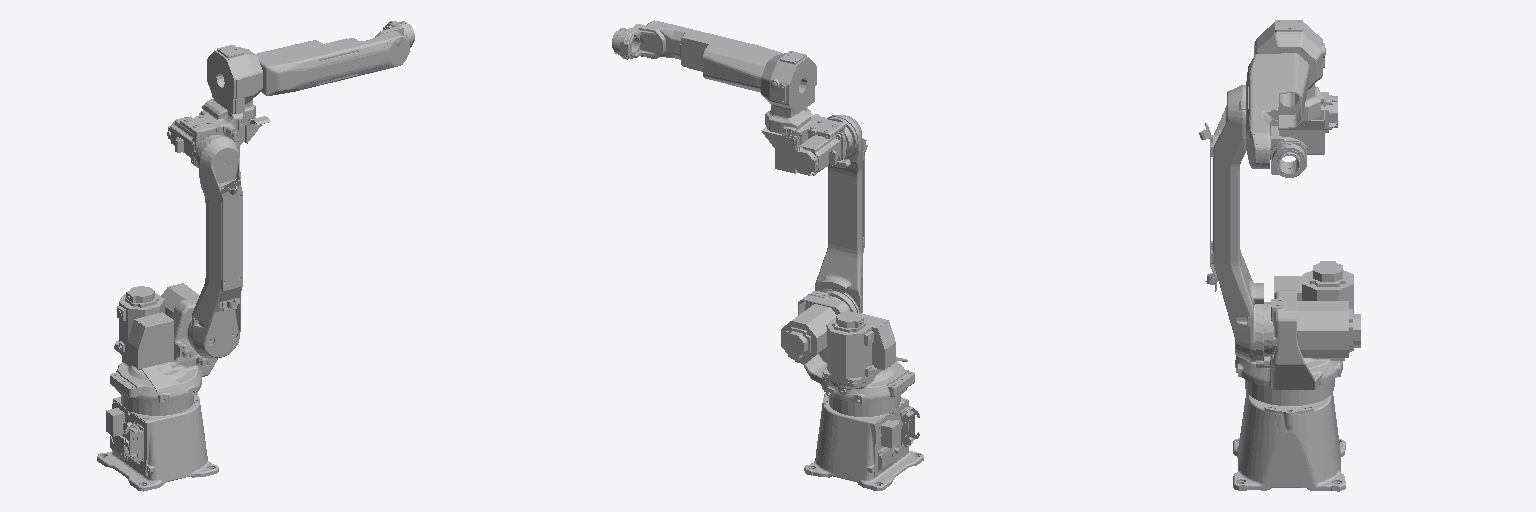
URDF robot description (m10iA):
<?xml version="1.0" ?>
<!-- =================================================================================== -->
<!-- |    This document was autogenerated by xacro from m10iA.xacro                    | -->
<!-- |    EDITING THIS FILE BY HAND IS NOT RECOMMENDED                                 | -->
<!-- =================================================================================== -->
<robot name="m10iA" xmlns:xacro="http://ros.org/wiki/xacro">
  <link name="base_link">
    <visual>
      <origin rpy="-1.578 0 0" xyz="0 0 0"/>
      <geometry>
        <mesh filename="package://fanuc_config/meshes/m_10iA/visual/base_link.STL"/>
      </geometry>
      <material name="grey">
        <color rgba="0.75 0.75 0.75 1"/>
      </material>
    </visual>
    <collision>
      <origin rpy="-1.578 0 0" xyz="0 0 0"/>
      <geometry>
        <mesh filename="package://fanuc_config/meshes/m_10iA/collision/base_link.stl"/>
      </geometry>
      <material name="yellow">
        <color rgba="1 1 0 1"/>
      </material>
    </collision>
  </link>
  <link name="link_1">
    <visual>
      <origin rpy="0 0 0" xyz="0 0 0"/>
      <geometry>
        <mesh filename="package://fanuc_config/meshes/m_10iA/visual/link_1.STL"/>
      </geometry>
      <material name="grey"/>
    </visual>
    <collision>
      <origin rpy="0 0 0" xyz="0 0 0"/>
      <geometry>
        <mesh filename="package://fanuc_config/meshes/m_10iA/collision/link_1.stl"/>
      </geometry>
      <material name="yellow"/>
    </collision>
  </link>
  <link name="link_2">
    <visual>
      <origin rpy="0 0 0" xyz="0 0 0"/>
      <geometry>
        <mesh filename="package://fanuc_config/meshes/m_10iA/visual/link_2.STL"/>
      </geometry>
      <material name="grey"/>
    </visual>
    <collision>
      <origin rpy="0 0 0" xyz="0 0 0"/>
      <geometry>
        <mesh filename="package://fanuc_config/meshes/m_10iA/collision/link_2.stl"/>
      </geometry>
      <material name="yellow"/>
    </collision>
  </link>
  <link name="link_3">
    <visual>
      <origin rpy="0 0 0" xyz="0 0 0"/>
      <geometry>
        <mesh filename="package://fanuc_config/meshes/m_10iA/visual/link_3.STL"/>
      </geometry>
      <material name="grey"/>
    </visual>
    <collision>
      <origin rpy="0 0 0" xyz="0 0 0"/>
      <geometry>
        <mesh filename="package://fanuc_config/meshes/m_10iA/collision/link_3.stl"/>
      </geometry>
      <material name="yellow"/>
    </collision>
  </link>
  <link name="link_4">
    <visual>
      <origin rpy="0 0 0" xyz="0 0 0"/>
      <geometry>
        <mesh filename="package://fanuc_config/meshes/m_10iA/visual/link_4.STL"/>
      </geometry>
      <material name="grey"/>
    </visual>
    <collision>
      <origin rpy="0 0 0" xyz="0 0 0"/>
      <geometry>
        <mesh filename="package://fanuc_config/meshes/m_10iA/collision/link_4.stl"/>
      </geometry>
      <material name="yellow"/>
    </collision>
  </link>
  <link name="link_5">
    <visual>
      <origin rpy="0 0 0" xyz="0 0 0"/>
      <geometry>
        <mesh filename="package://fanuc_config/meshes/m_10iA/visual/link_5.STL"/>
      </geometry>
      <material name="grey"/>
    </visual>
    <collision>
      <origin rpy="0 0 0" xyz="0 0 0"/>
      <geometry>
        <mesh filename="package://fanuc_config/meshes/m_10iA/collision/link_5.stl"/>
      </geometry>
      <material name="yellow"/>
    </collision>
  </link>
  <link name="link_6">
    <visual>
      <origin rpy="0 0 0" xyz="0 0 0"/>
      <geometry>
        <mesh filename="package://fanuc_config/meshes/m_10iA/visual/link_6.STL"/>
      </geometry>
      <material name="grey"/>
    </visual>
    <collision>
      <origin rpy="0 0 0" xyz="0 0 0"/>
      <geometry>
        <mesh filename="package://fanuc_config/meshes/m_10iA/collision/link_6.stl"/>
      </geometry>
      <material name="yellow"/>
    </collision>
  </link>
  <link name="tool0"/>
  <joint name="joint_1" type="revolute">
    <origin rpy="0 0 0" xyz="0 0 0"/>
    <parent link="base_link"/>
    <child link="link_1"/>
    <axis xyz="0 0 1"/>
    <limit effort="0" lower="-5.93" upper="5.93" velocity="3.665"/>
    <calibration falling="0" rising="0"/>
    <dynamics damping="0" friction="0"/>
    <!--			<safety_controller
			  soft_lower_limit="0"
			  soft_upper_limit="0"
			  k_position="0"
			  k_velocity="0" /> -->
  </joint>
  <joint name="joint_2" type="revolute">
    <origin rpy="0 0 0" xyz="0.15 -0.04 0.45"/>
    <parent link="link_1"/>
    <child link="link_2"/>
    <axis xyz="0 1 0"/>
    <limit effort="0" lower="-4.36" upper="4.36" velocity="3.32"/>
    <calibration falling="0" rising="0"/>
    <dynamics damping="0" friction="0"/>
    <!--			<safety_controller
			  soft_lower_limit="0"
			  soft_upper_limit="0"
			  k_position="0"
			  k_velocity="0" /> -->
  </joint>
  <joint name="joint_3" type="revolute">
    <origin rpy="0 0 0" xyz="0 -0.0225 0.6"/>
    <parent link="link_2"/>
    <child link="link_3"/>
    <axis xyz="0 1 0"/>
    <limit effort="0" lower="-5.06" upper="5.06" velocity="3.665"/>
    <calibration falling="0" rising="0"/>
    <dynamics damping="0" friction="0"/>
    <!--			<safety_controller
			  soft_lower_limit="0"
			  soft_upper_limit="0"
			  k_position="0"
			  k_velocity="0" /> -->
  </joint>
  <joint name="joint_4" type="revolute">
    <origin rpy="0 0 0" xyz="0.1805 0.0625 0.2"/>
    <parent link="link_3"/>
    <child link="link_4"/>
    <axis xyz="1 0 0"/>
    <limit effort="0" lower="-6.63" upper="6.63" velocity="6.98"/>
    <calibration falling="0" rising="0"/>
    <dynamics damping="0" friction="0"/>
    <!--			<safety_controller
			  soft_lower_limit="0"
			  soft_upper_limit="0"
			  k_position="0"
			  k_velocity="0" /> -->
  </joint>
  <joint name="joint_5" type="revolute">
    <origin rpy="0 0 0" xyz="0.4595 -0.0565 0"/>
    <parent link="link_4"/>
    <child link="link_5"/>
    <axis xyz="0 1 0"/>
    <limit effort="0" lower="-6.63" upper="6.63" velocity="3.98"/>
    <calibration falling="0" rising="0"/>
    <dynamics damping="0" friction="0"/>
    <!--			<safety_controller
			  soft_lower_limit="0"
			  soft_upper_limit="0"
			  k_position="0"
			  k_velocity="0" /> -->
  </joint>
  <joint name="joint_6" type="revolute">
    <origin rpy="0 0 0" xyz="0.1 0.0565 0"/>
    <parent link="link_5"/>
    <child link="link_6"/>
    <axis xyz="1 0 0"/>
    <limit effort="0" lower="-12.566" upper="12.566" velocity="10.47"/>
    <calibration falling="0" rising="0"/>
    <dynamics damping="0" friction="0"/>
    <!--			<safety_controller
			  soft_lower_limit="0"
			  soft_upper_limit="0"
			  k_position="0"
			  k_velocity="0" /> -->
  </joint>
  <joint name="joint_6-tool0" type="fixed">
    <parent link="link_6"/>
    <child link="tool0"/>
    <origin rpy="0 0 0" xyz="0.1 0.0565 0"/>
  </joint>
</robot>

--- What the picture shows (computed from the rendered views, not written in the file) ---
The picture shows the robot from 3 angles, left to right: view 1: azimuth 30°, elevation 25°; view 2: azimuth 150°, elevation 25°; view 3: azimuth 270°, elevation 25°; orthographic projection.
Model m10iA with 8 links and 7 joints (6 revolute, 1 fixed), rooted at base_link, posed every joint at zero.
Links seen in each view (by area): view 1: link_2, link_1, base_link, link_4, link_3; view 2: link_1, base_link, link_3, link_2, link_4, link_5; view 3: base_link, link_1, link_2, link_4, link_3, link_5.
Boxes of the visible links, x1,y1,x2,y2 form: link_2: (188,135,242,358); link_1: (110,283,217,403); base_link: (97,392,218,491); link_4: (255,31,409,95); link_3: (167,45,270,167); link_1: (781,291,914,403); base_link: (804,393,923,490); link_3: (761,51,846,175); link_2: (815,115,867,313); link_4: (646,20,782,92); link_5: (613,24,665,59); base_link: (1233,379,1345,491); link_1: (1235,261,1360,389); link_2: (1199,85,1272,361); link_4: (1246,53,1308,168); link_3: (1239,20,1337,154); link_5: (1270,126,1306,177).
Size in the robot's own frame: 1.03 by 0.4075 by 1.34 metres.
Meshes: 7 distinct files referenced, 7 mesh visuals loaded (7 binary STL).